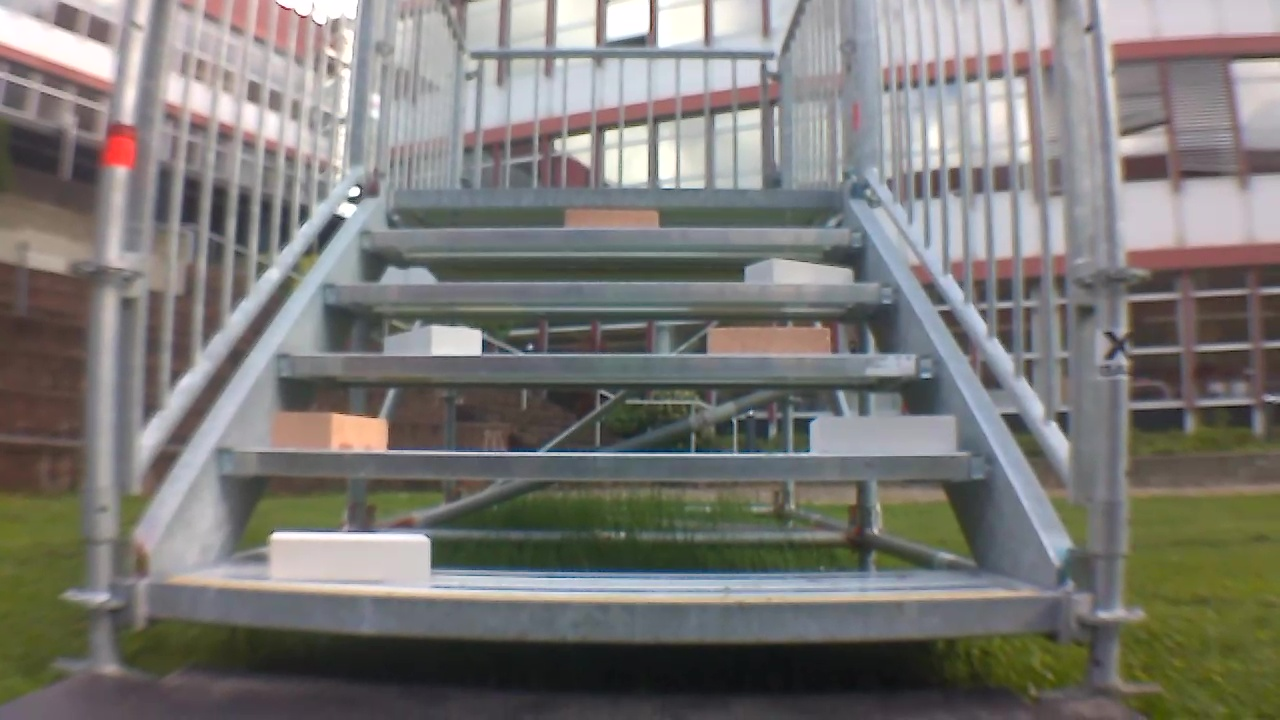brick: (265, 528, 435, 577), (805, 413, 961, 455), (266, 412, 395, 452), (704, 324, 831, 355), (377, 324, 479, 357), (744, 259, 858, 284), (564, 208, 663, 228)
edge: (137, 588, 1069, 634), (216, 450, 991, 476), (275, 353, 940, 380), (323, 279, 898, 305), (351, 226, 863, 247), (392, 191, 850, 210)
stairs: (78, 0, 1111, 689)
steps: (121, 187, 1077, 632)
